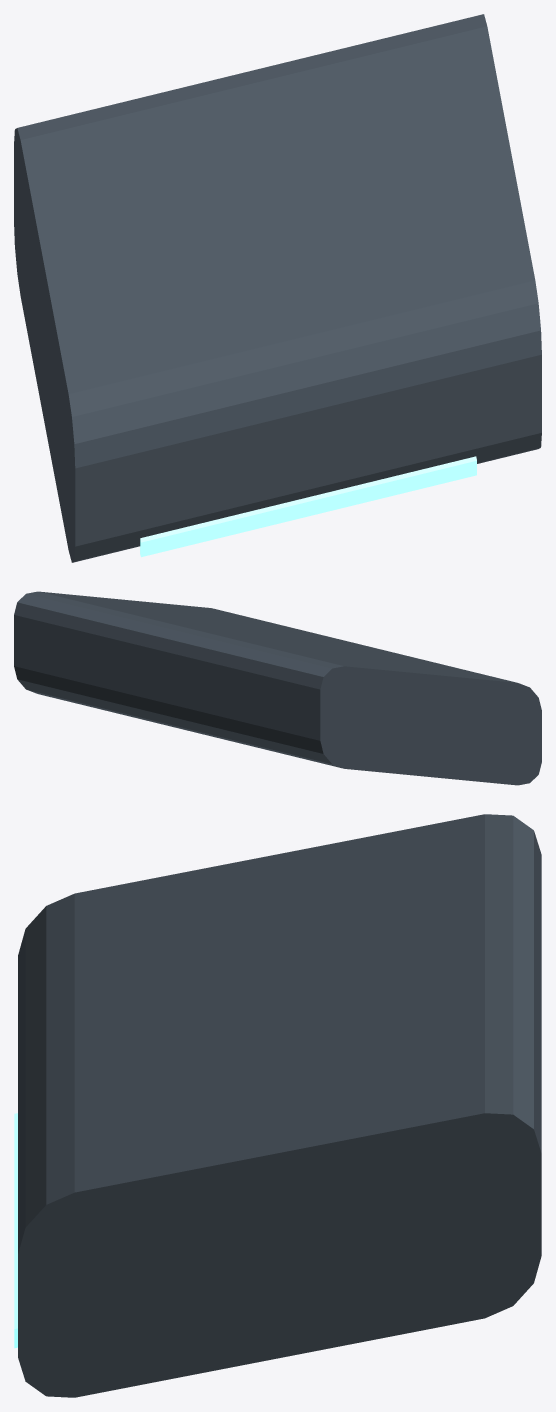
The model's file is Door_Lintel.gltf.
3 views of the same model, one above another, from view 1: azimuth 30°, elevation 25°; view 2: azimuth 150°, elevation 25°; view 3: azimuth 270°, elevation 25° (orthographic). The views are drawn at different scales.
Visible parts, largest first — view 1: Door_Lintel_baked; view 2: Door_Lintel_baked; view 3: Door_Lintel_baked.
Part boxes in pixels (<box>): Door_Lintel_baked: <box>14,14,541,562</box>; Door_Lintel_baked: <box>14,591,541,785</box>; Door_Lintel_baked: <box>14,814,541,1397</box>.
Size of the model in its own units: 1.3 by 0.5626 by 0.745.
